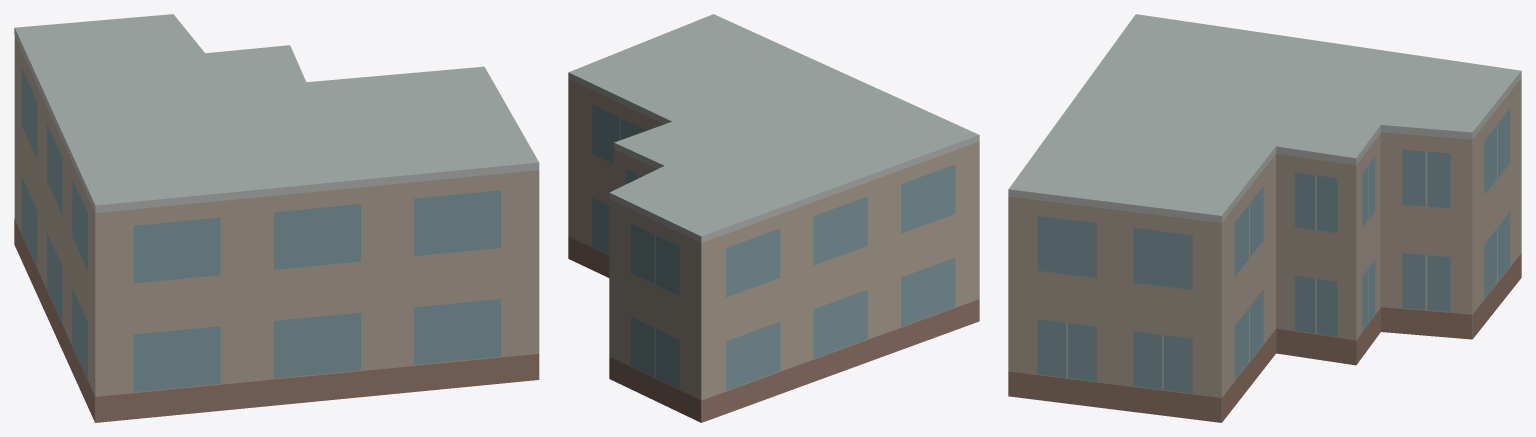
Rendered from survey-upis-32629268.glb.
3 renders of one model, left to right at view 1: azimuth 30°, elevation 25°; view 2: azimuth 150°, elevation 25°; view 3: azimuth 270°, elevation 25°, orthographic. The views are drawn at different scales.
Visible parts, largest first — view 1: survey-upis-32629268.tmp; view 2: survey-upis-32629268.tmp; view 3: survey-upis-32629268.tmp.
Part boxes in pixels (box(x1,y1,x2,y2)): survey-upis-32629268.tmp: box(14, 14, 539, 422); survey-upis-32629268.tmp: box(568, 14, 979, 422); survey-upis-32629268.tmp: box(1008, 14, 1521, 422).
Bounding box in the file's own units: 14.65 × 7 × 15.74.
